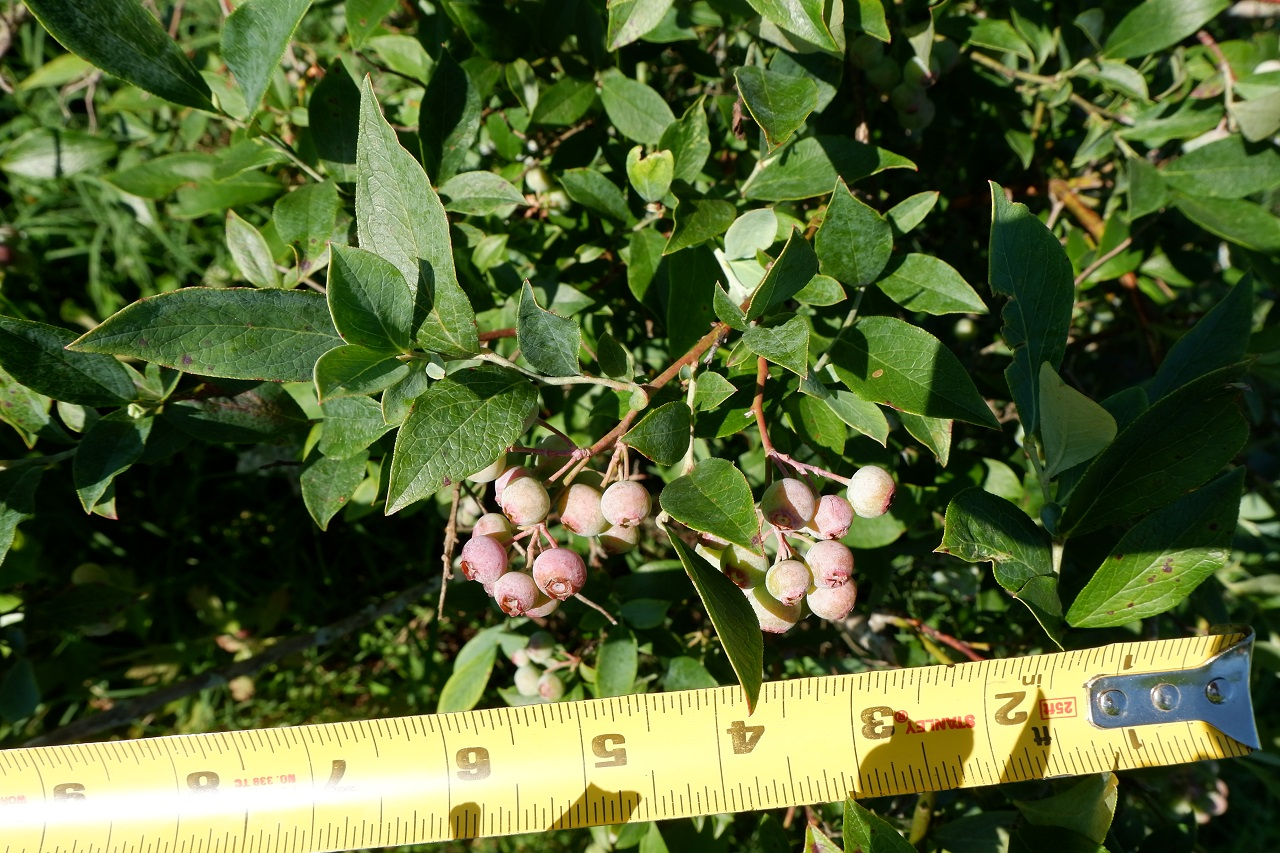Immature: (761, 478, 816, 534), (747, 581, 802, 633), (533, 548, 587, 600), (557, 484, 609, 537), (532, 434, 582, 488), (847, 465, 896, 519), (601, 480, 652, 529), (803, 540, 854, 589), (502, 476, 552, 525), (460, 535, 507, 584), (720, 543, 770, 589), (806, 494, 855, 540), (494, 571, 540, 618), (807, 577, 858, 619), (766, 559, 811, 606), (495, 465, 538, 507), (472, 513, 512, 554), (597, 523, 641, 555), (521, 588, 561, 618), (465, 454, 507, 482), (696, 544, 726, 571), (520, 401, 539, 437), (697, 531, 731, 550), (505, 438, 527, 467), (481, 579, 499, 597)
